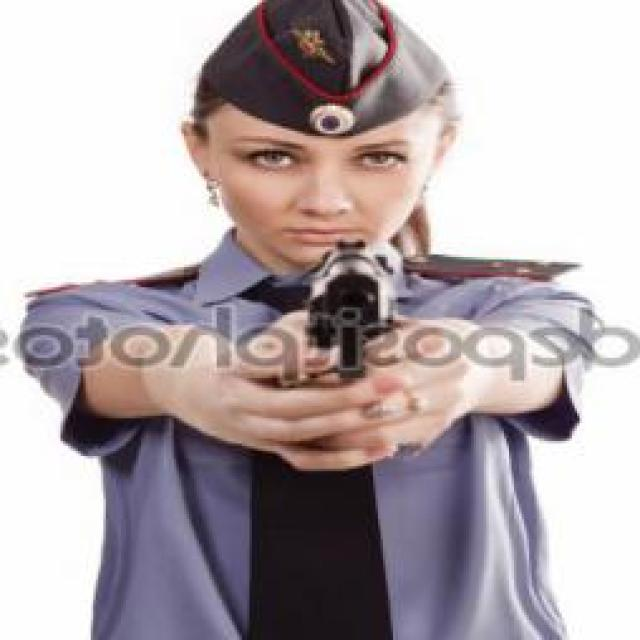pistol: (295, 239, 421, 383)
